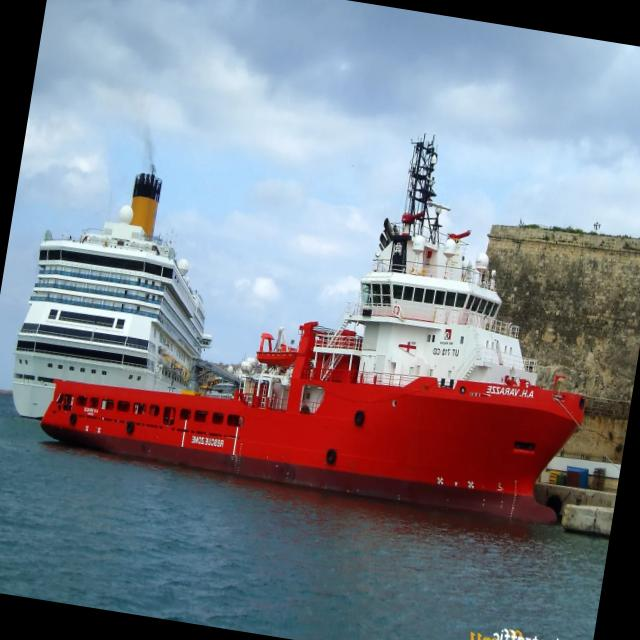Cruise: (13, 174, 211, 418)
Offshore: (41, 142, 586, 523)
